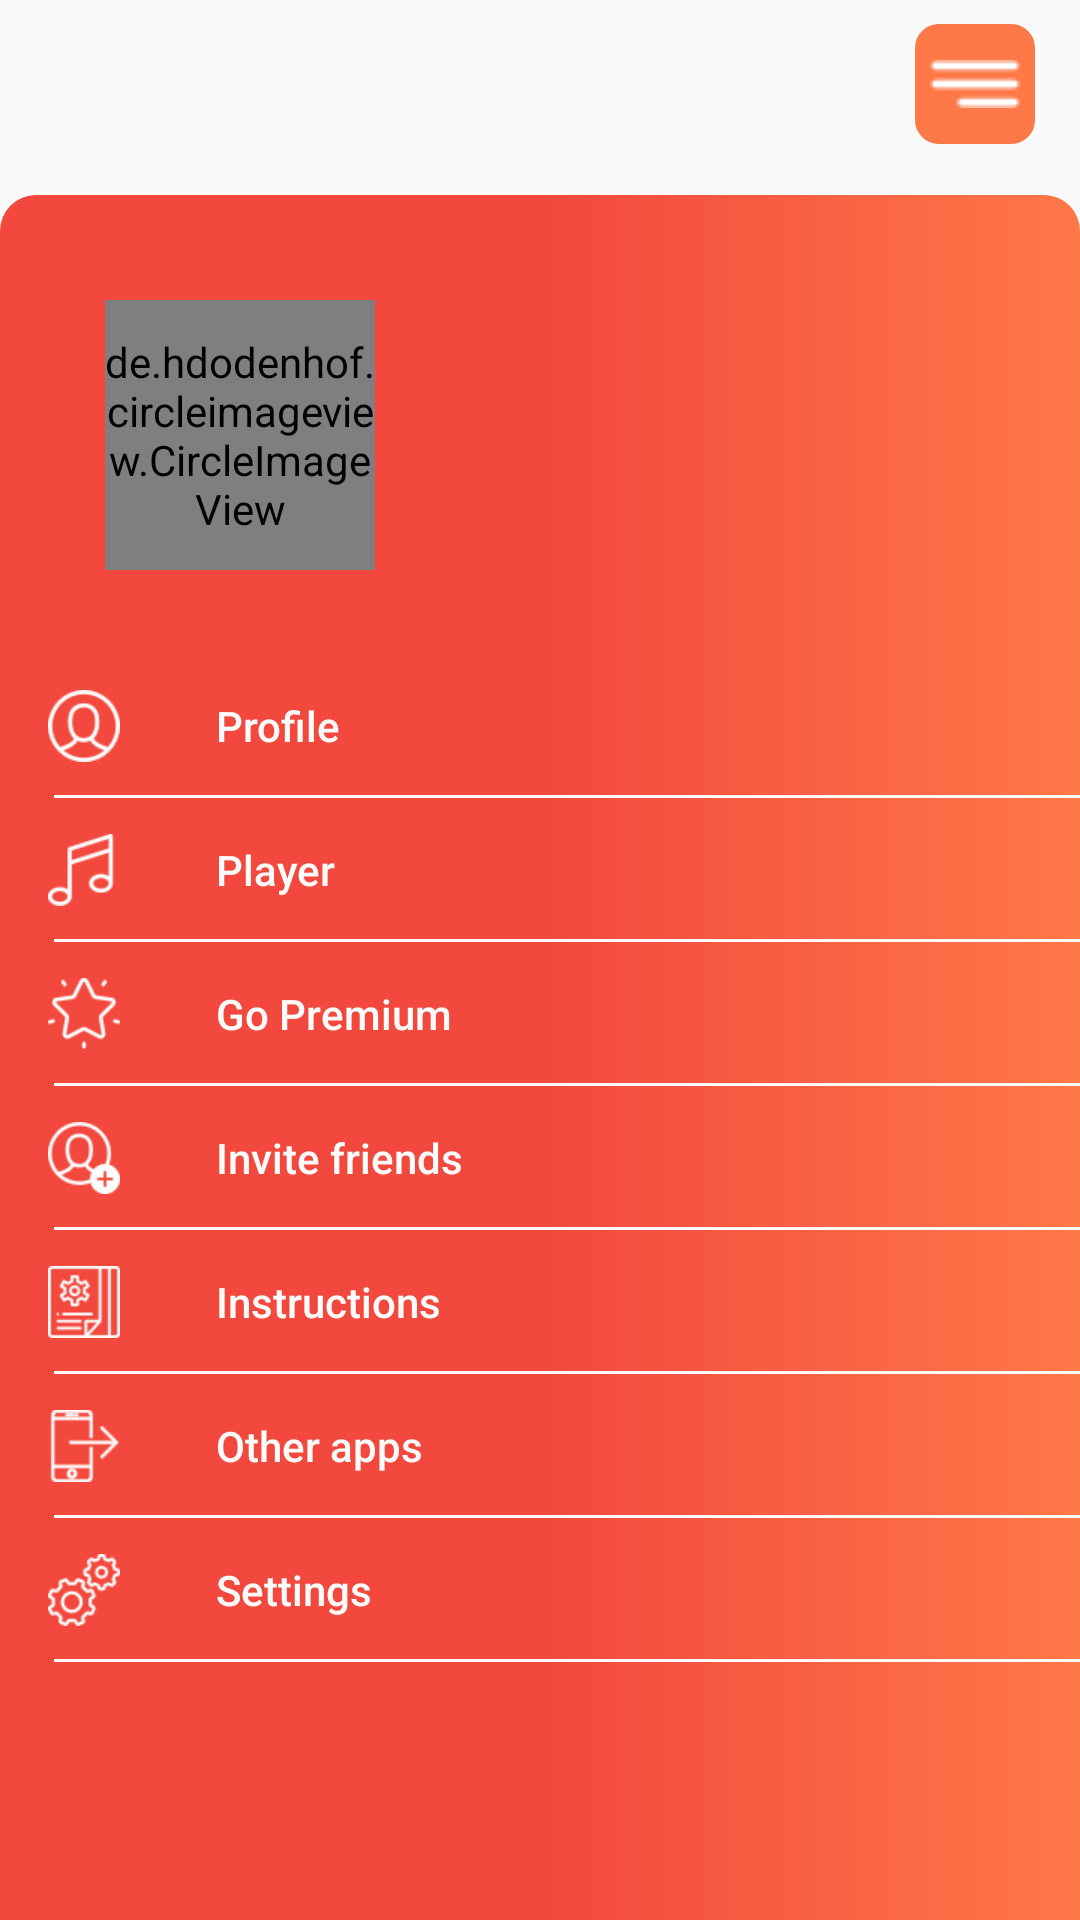

Locate icon controls on the screen. Image size 1080px×1920px, boxes as box(x1, y1, x2, y2).
burgermenuwhite: box(915, 24, 1035, 144)
